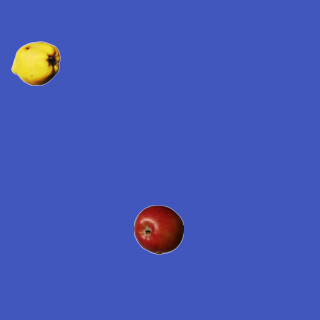Apple Braeburn: (133, 204, 183, 254)
Quince: (10, 38, 60, 88)
